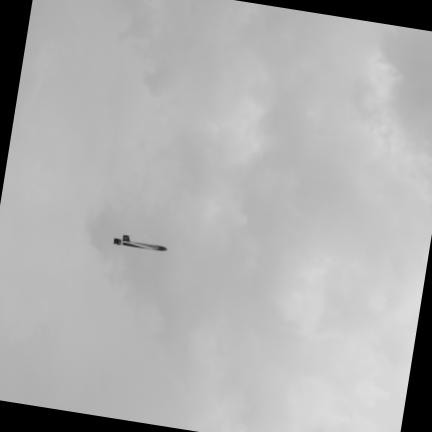Shahed: (113, 235, 166, 251)
